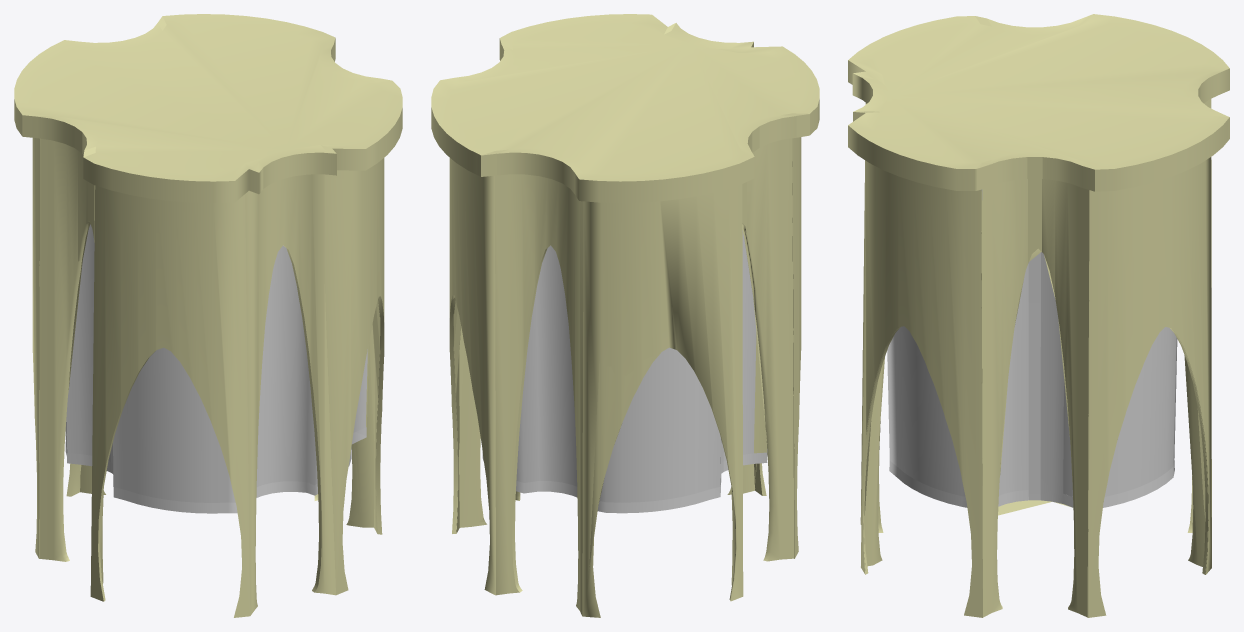
Rendered from building hotel separated windows.fbx.
3 views of the same model, side by side, from view 1: azimuth 30°, elevation 25°; view 2: azimuth 150°, elevation 25°; view 3: azimuth 270°, elevation 25° (orthographic).
Visible parts, largest first — view 1: building; view 2: building; view 3: building, windows2.
Boxes of the visible parts, bbox=[...] form: building: bbox=[14, 14, 402, 617]; building: bbox=[431, 14, 819, 617]; building: bbox=[848, 14, 1229, 617]; windows2: bbox=[1040, 252, 1054, 490].
Bounding box in the file's own units: 2392 × 3247 × 2471.
